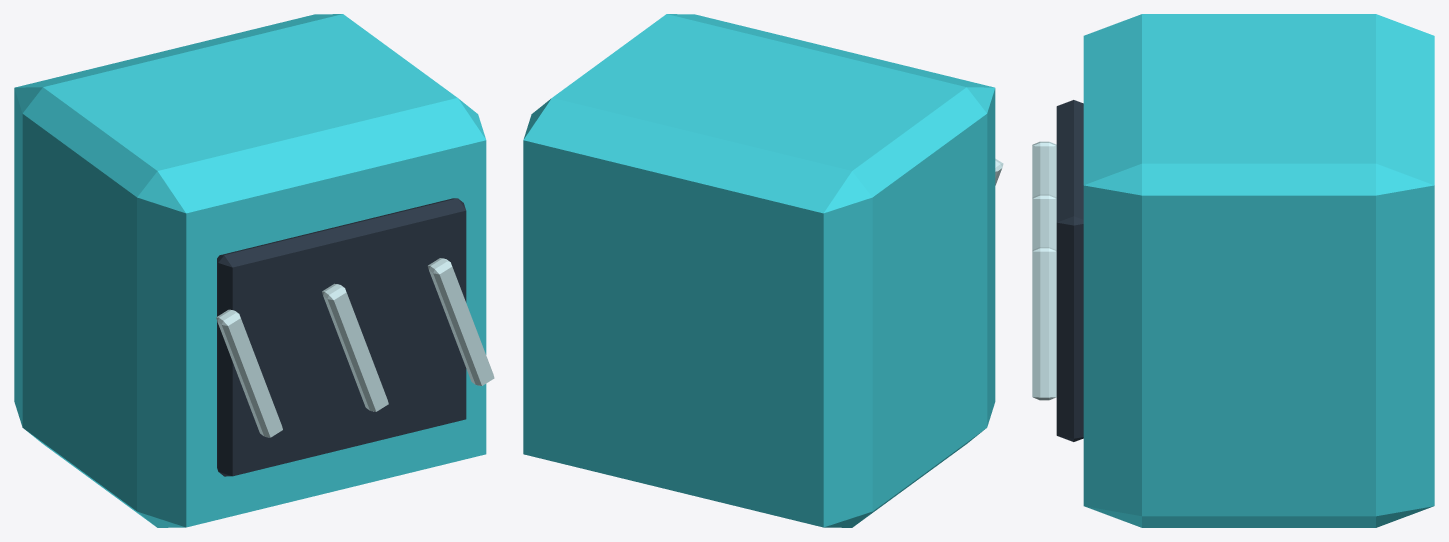
File: MovingWall.fbx
3 renders of one model, left to right at view 1: azimuth 30°, elevation 25°; view 2: azimuth 150°, elevation 25°; view 3: azimuth 270°, elevation 25°, orthographic. The views are drawn at different scales.
Parts seen in each view (by area): view 1: SlidingPanel, PanelInset, DirectionSlash, DirectionSlash.001, DirectionSlash.002; view 2: SlidingPanel; view 3: SlidingPanel, PanelInset, DirectionSlash.002, DirectionSlash, DirectionSlash.001.
Boxes of the visible parts, x1,y1,x2,y2 form: SlidingPanel: [14, 14, 486, 527]; PanelInset: [217, 198, 466, 476]; DirectionSlash: [216, 309, 282, 437]; DirectionSlash.001: [322, 283, 388, 411]; DirectionSlash.002: [427, 258, 494, 385]; SlidingPanel: [523, 14, 995, 527]; SlidingPanel: [1083, 14, 1434, 527]; PanelInset: [1056, 100, 1083, 441]; DirectionSlash.002: [1032, 247, 1056, 400]; DirectionSlash: [1032, 141, 1056, 197]; DirectionSlash.001: [1032, 194, 1056, 249].
Bounding box in the file's own units: 1 × 1 × 1.
